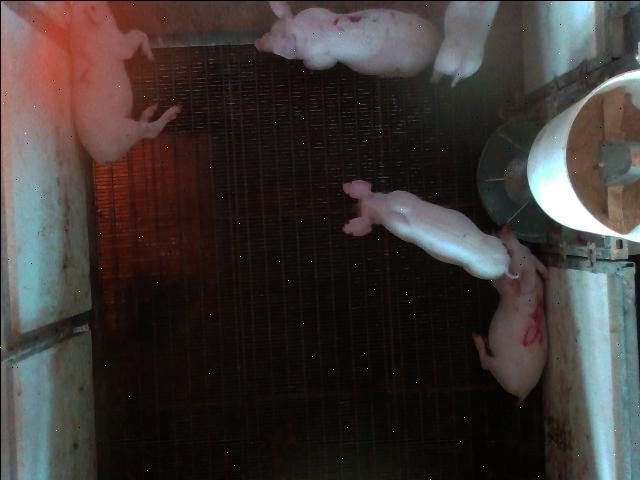pig-2: (69, 1, 180, 162)
pig-3: (254, 1, 440, 75)
pig-5: (472, 228, 546, 402)
